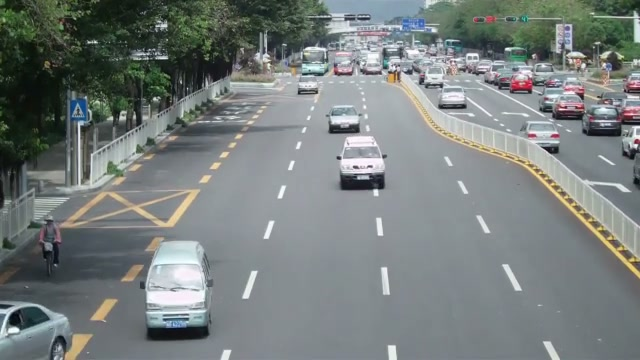bus: (301, 47, 329, 76), (332, 51, 355, 76)
car: (143, 240, 214, 339), (0, 300, 74, 359), (336, 134, 386, 190), (520, 120, 561, 153), (581, 104, 622, 136), (327, 105, 361, 133), (552, 94, 585, 120), (438, 86, 467, 110), (423, 64, 446, 89), (510, 72, 534, 93), (297, 76, 319, 95), (623, 73, 640, 94), (631, 148, 640, 184)
pedestrian: (37, 215, 62, 266)
truck: (360, 49, 383, 75), (333, 51, 355, 76)
